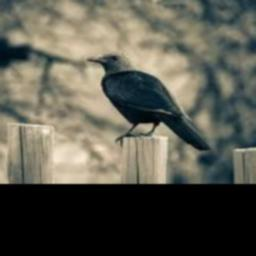Crow: (87, 51, 214, 151)
